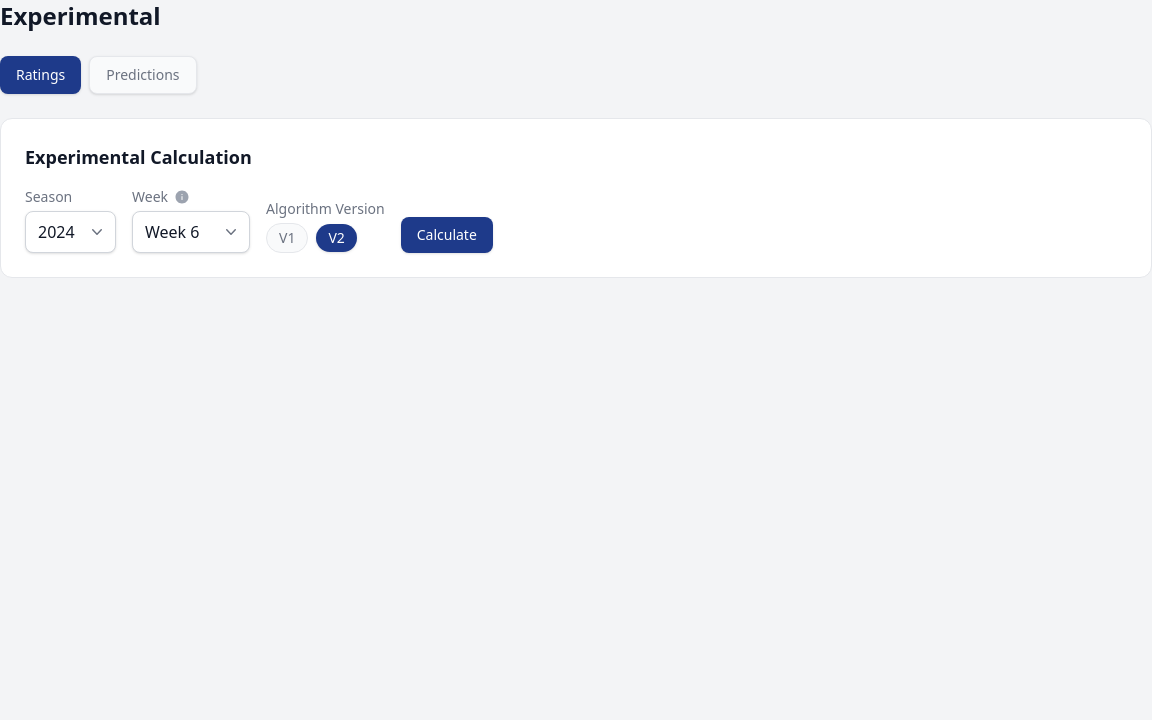
Scenario: ExperimentalPage › opens the compare season modal when Compare Season is clicked
Click the button "Predictions". click: (143, 75)
box: 89,56 -> 196,94
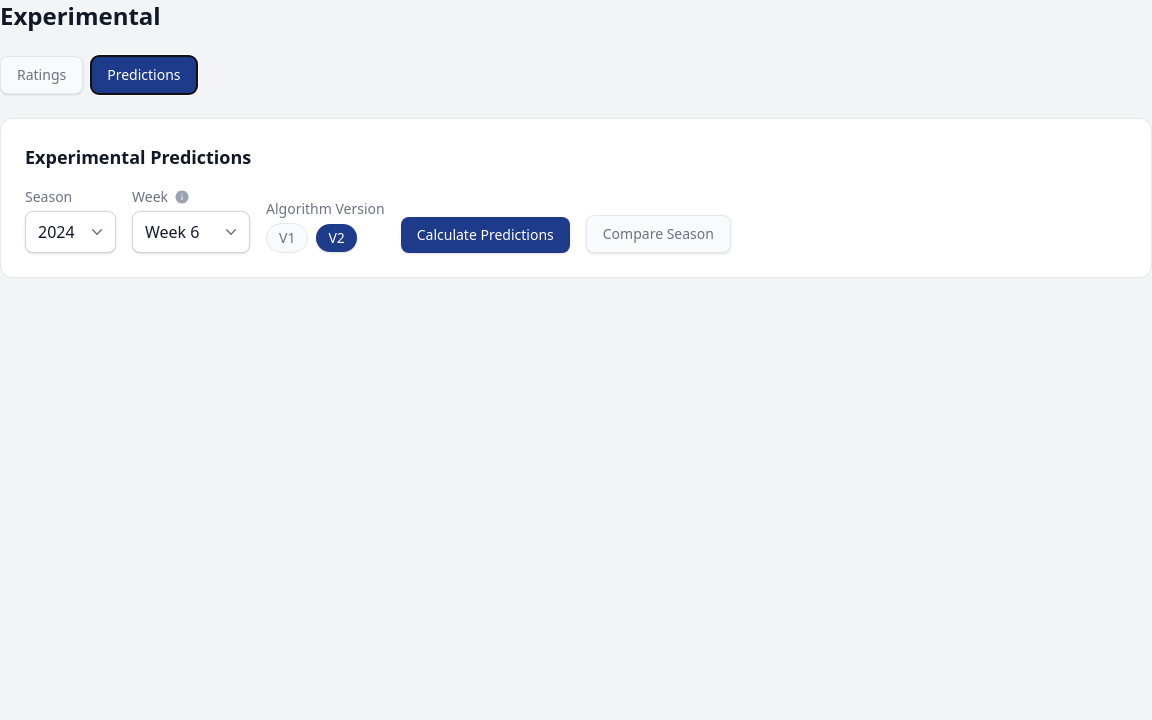
Click the button "Compare Season". click: (658, 234)
box: 586,215 -> 731,253
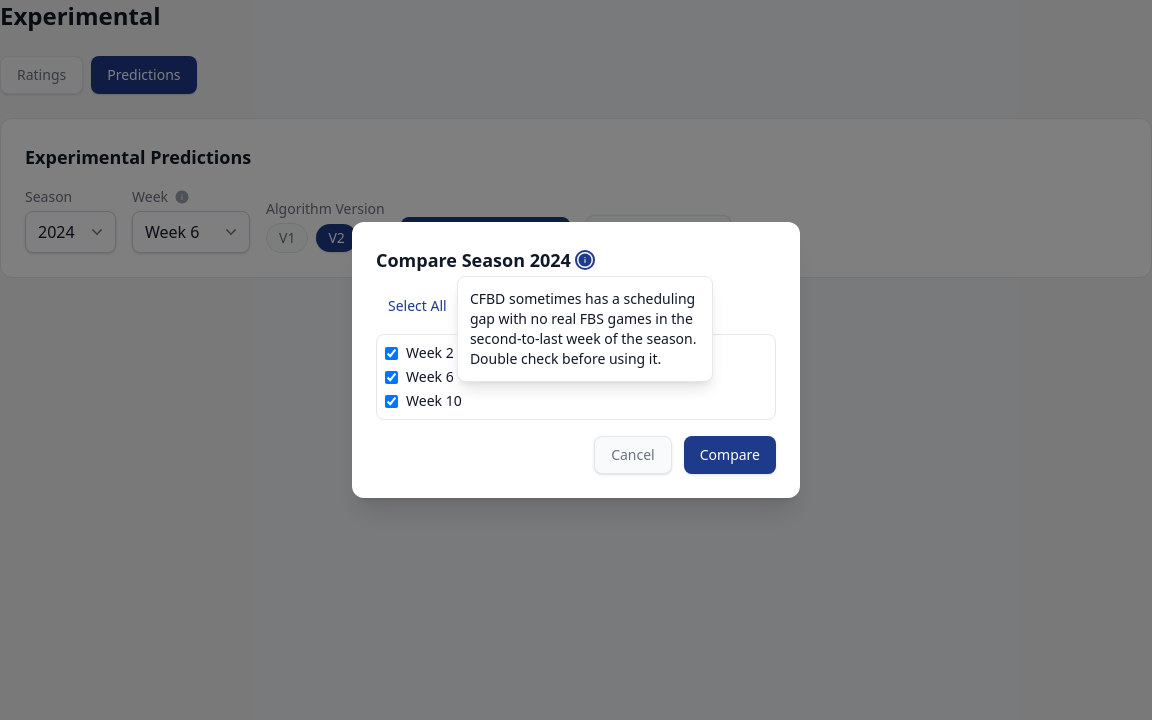
Result: the dialog is shown
Result: the heading "Compare Season 2024" is shown at 376,246 -> 571,274
